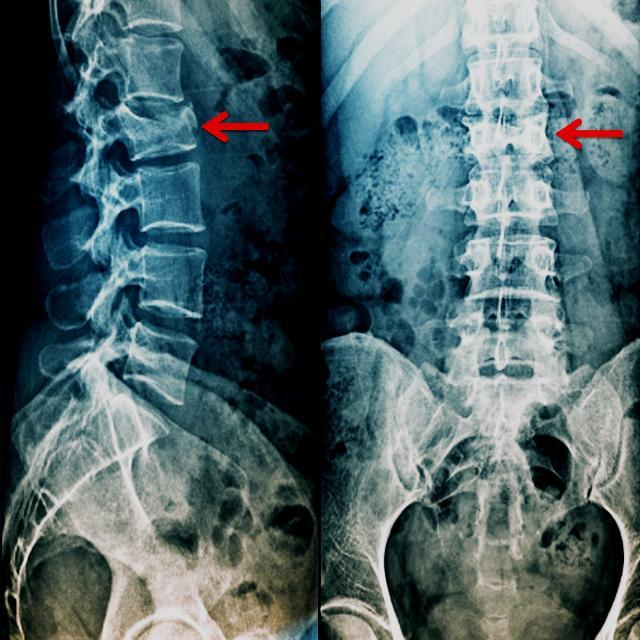Compression-Crush Fracutre: (116, 103, 222, 158), (462, 121, 569, 155)
